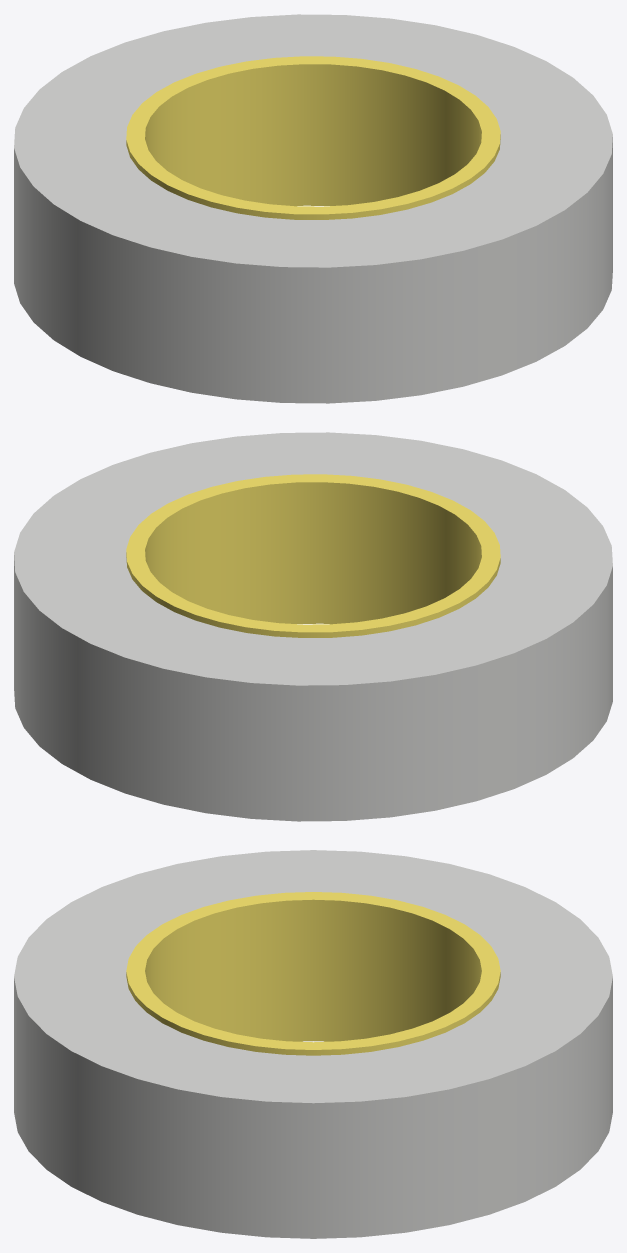
The model's file is HID-INS-002.glb.
The picture shows the model from 3 angles, top to bottom: view 1: azimuth 30°, elevation 25°; view 2: azimuth 150°, elevation 25°; view 3: azimuth 270°, elevation 25°; orthographic projection.
Visible parts, largest first — view 1: HID-INS-002_fita, HID-INS-002_nucleo; view 2: HID-INS-002_fita, HID-INS-002_nucleo; view 3: HID-INS-002_fita, HID-INS-002_nucleo.
Part boxes in pixels (x1=…): HID-INS-002_fita: x1=14, y1=14, x2=612, y2=403; HID-INS-002_nucleo: x1=126, y1=56, x2=500, y2=219; HID-INS-002_fita: x1=14, y1=432, x2=612, y2=821; HID-INS-002_nucleo: x1=126, y1=474, x2=500, y2=637; HID-INS-002_fita: x1=14, y1=850, x2=612, y2=1238; HID-INS-002_nucleo: x1=126, y1=892, x2=500, y2=1055.
Size of the model in its own units: 0.048 by 0.0125 by 0.048.
